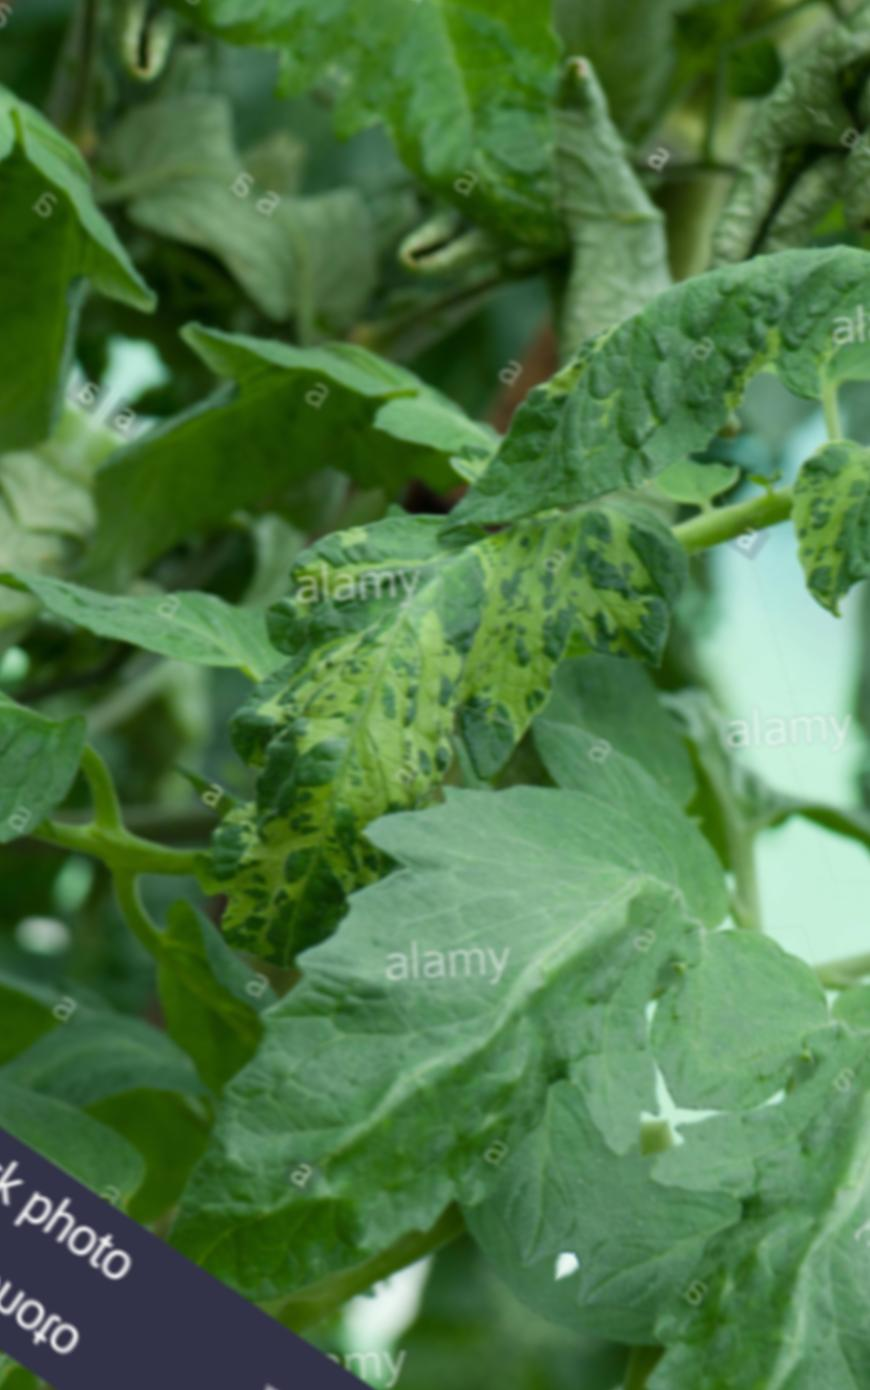Tomato leaf mosaic virus: (90, 321, 728, 1040), (130, 672, 783, 1375), (412, 83, 870, 693), (703, 393, 870, 658)
